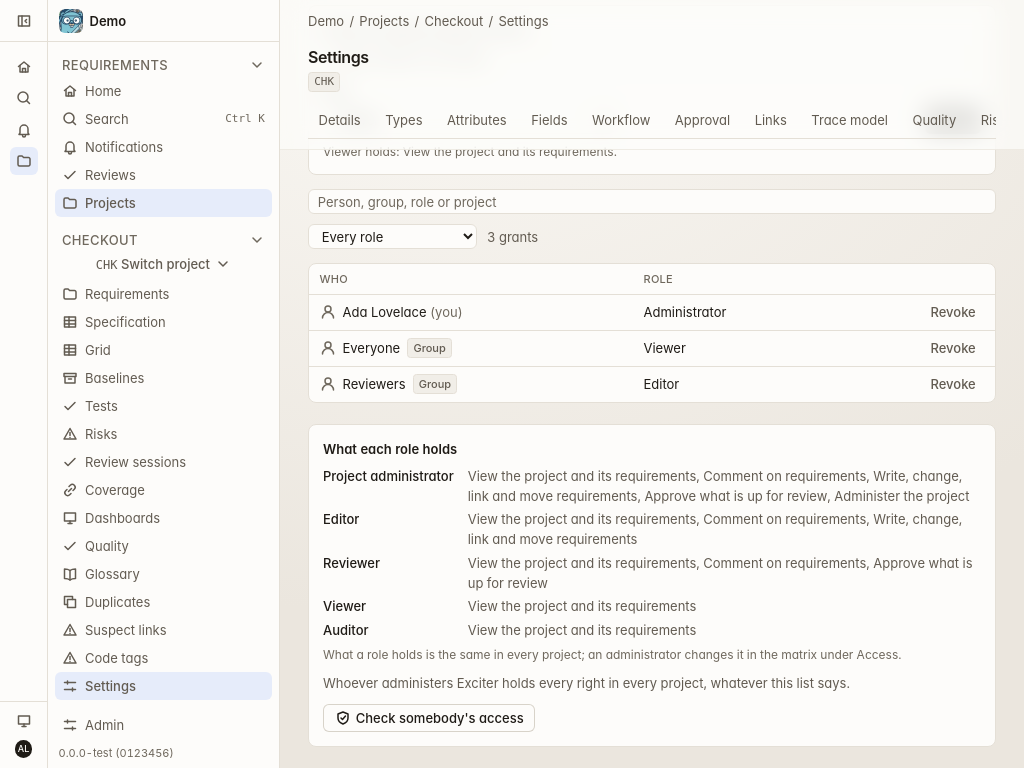
Scenario: the access inspector › shows each right of the member picked, and marks what decides a no
(page scrolled)
Click the button "Check somebody's access" at point(429, 718), box x1=323 y1=704 x2=535 y2=732
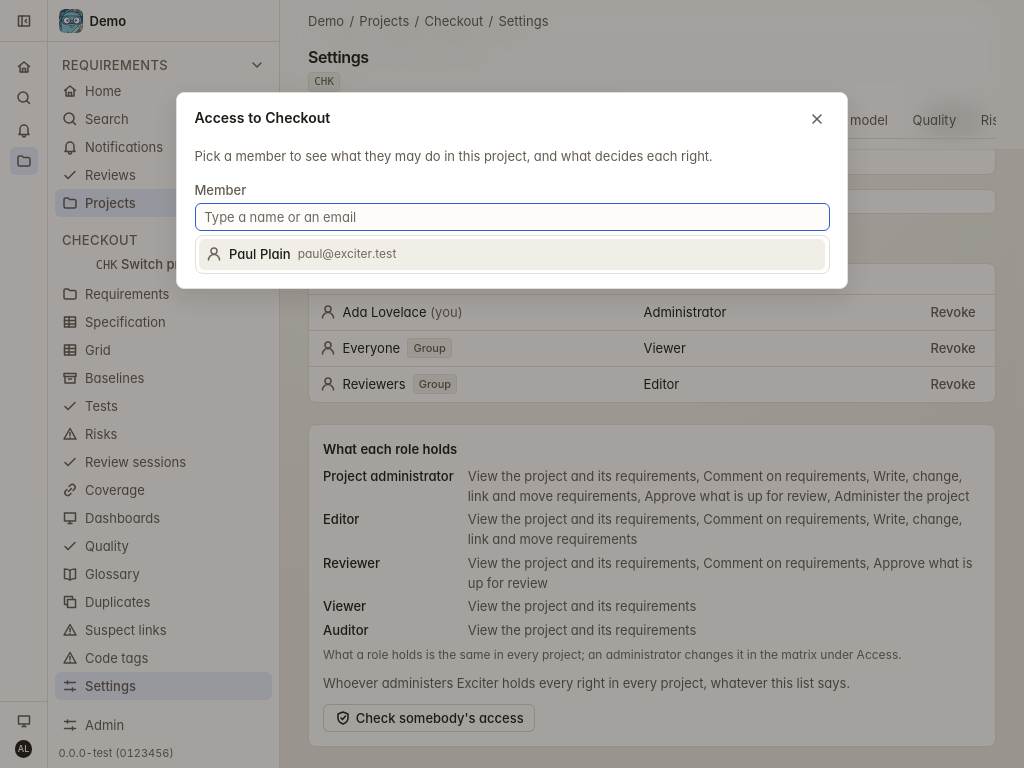
Type "pau" into the dropdown labelled "Member" at point(512, 217), box x1=194 y1=203 x2=830 y2=231
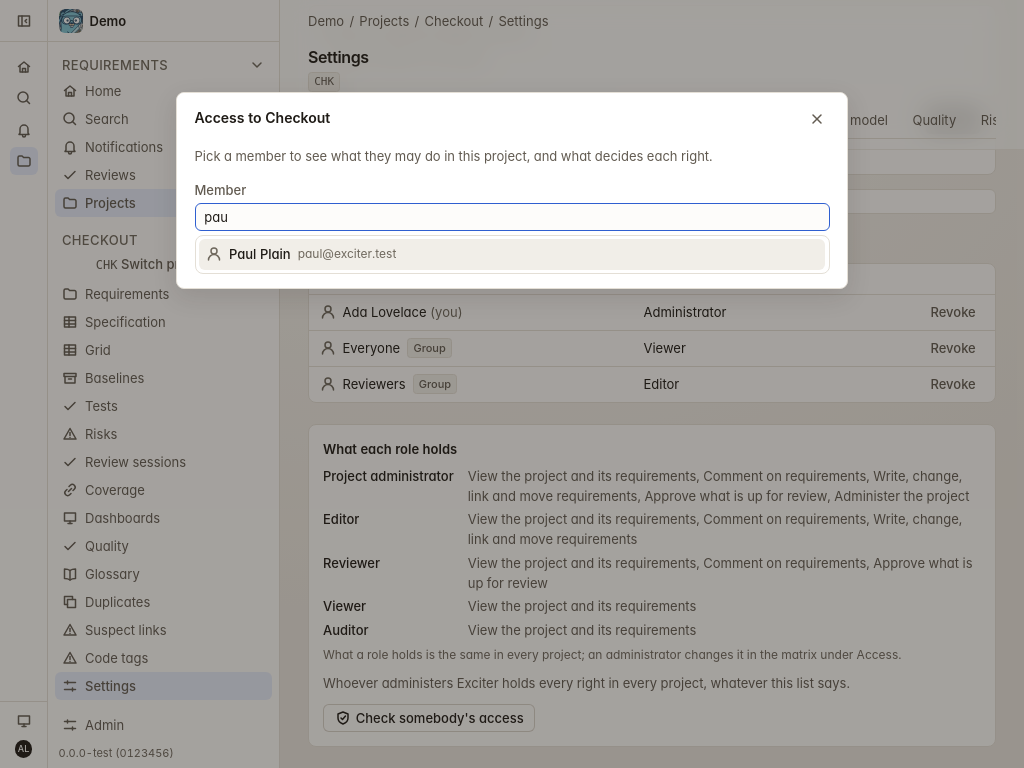
Click the option "Paul Plain paul@exciter.test" at point(260, 254), box x1=199 y1=239 x2=825 y2=270
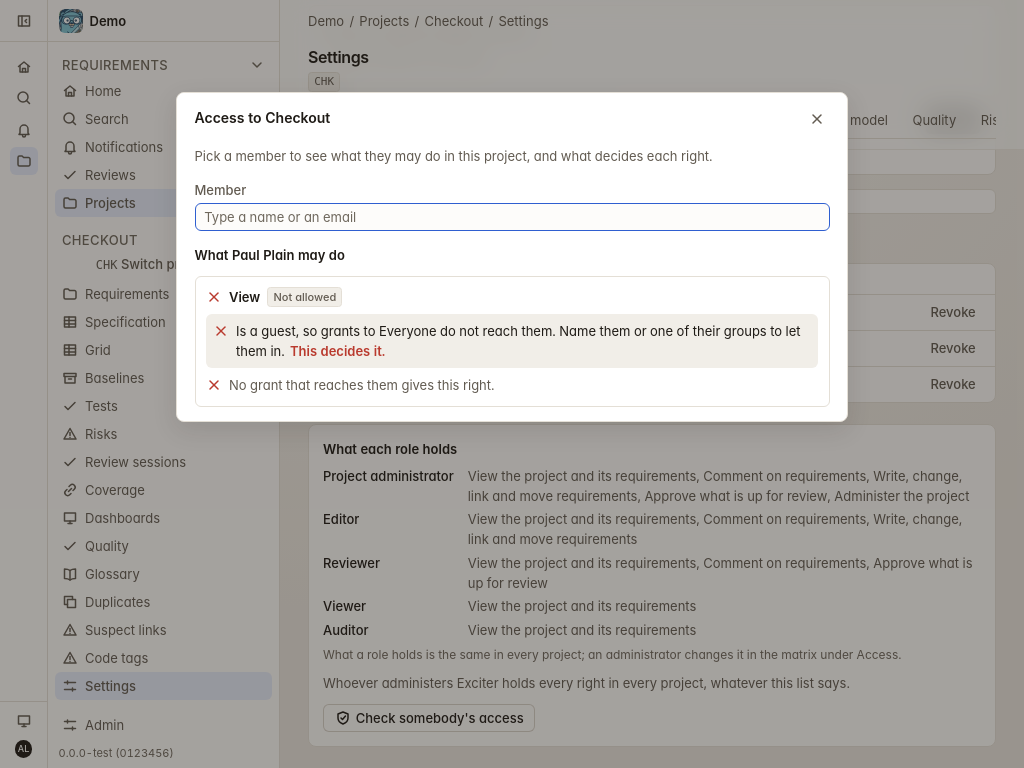
expect the 1st list item shows "Is a guest, so grants to Everyone do not reach them.": met, box x1=236 y1=323 x2=801 y2=359
